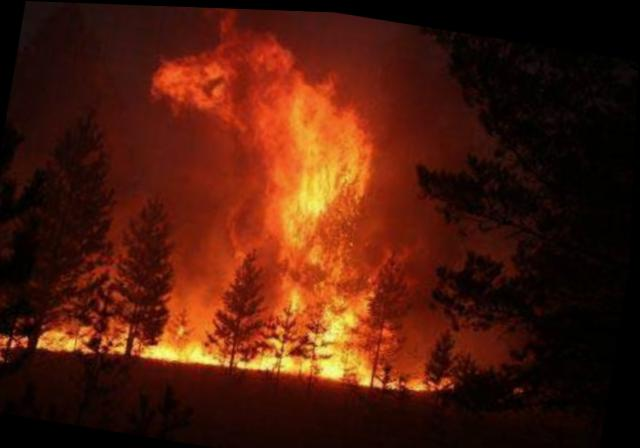fire: (124, 11, 445, 335), (0, 271, 473, 432)
